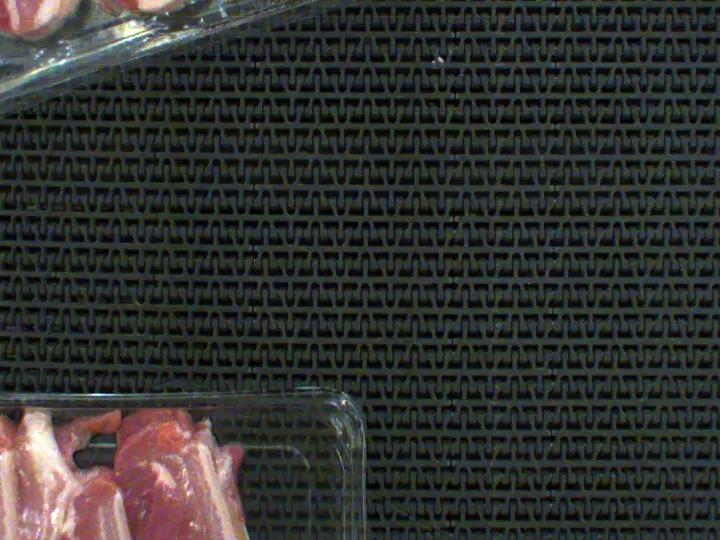packaging-error: (0, 381, 245, 462)
